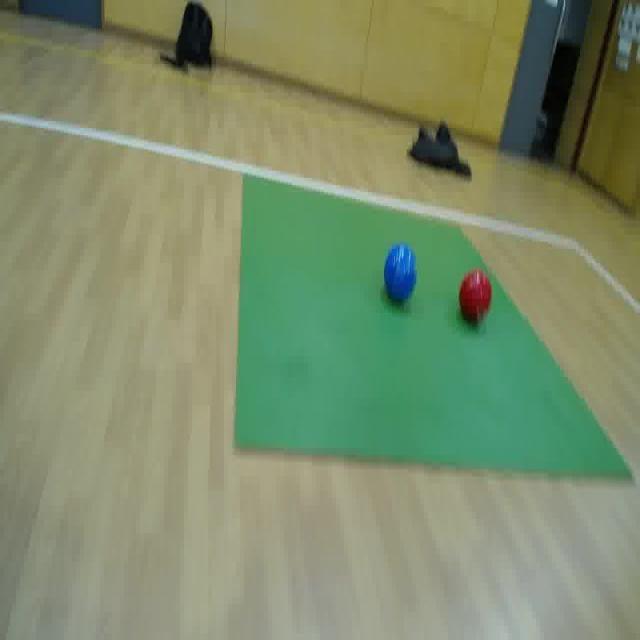blue_ball: (382, 240, 417, 308)
red_ball: (458, 263, 494, 327)
